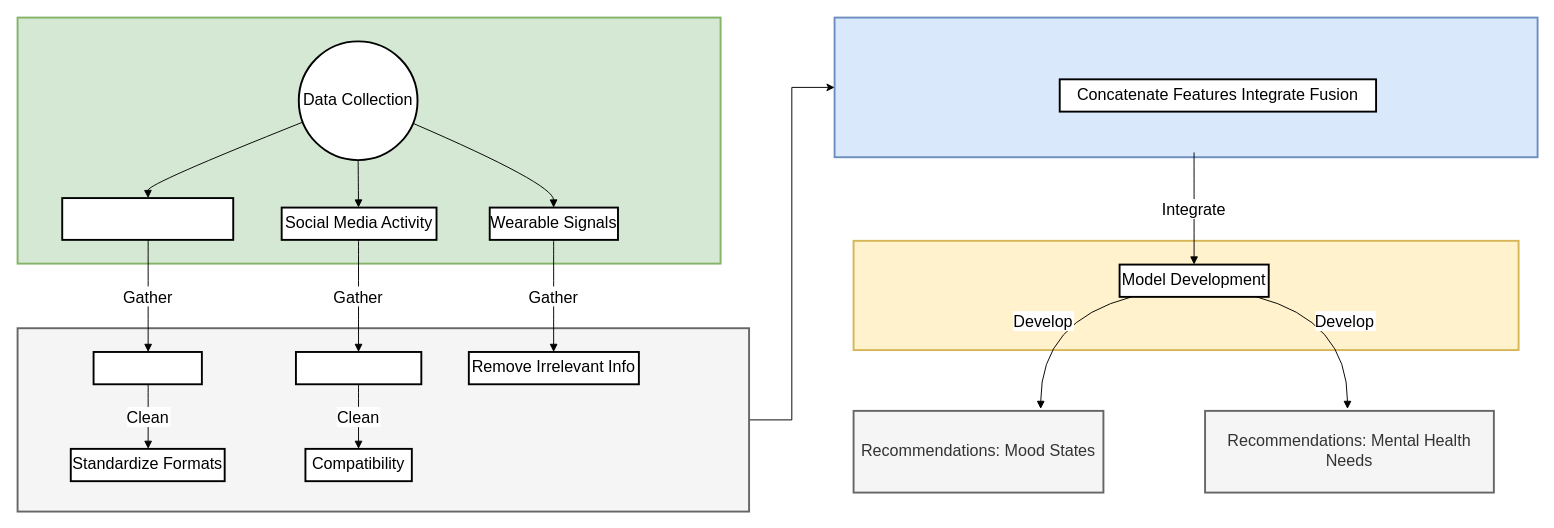
The diagram is 1554 pixels wide and 528 high, and some of its shapes have lost their labels. Here are the shapes that lost their labels. From the top down, the box of each, then its label:
(833, 16, 1538, 158): Data_Integration
(61, 197, 234, 240): Mobile Usage Metadata
(92, 351, 202, 385): Remove Noise
(294, 351, 422, 385): Remove Outliers
(16, 327, 750, 512): Data_Preprocessing
